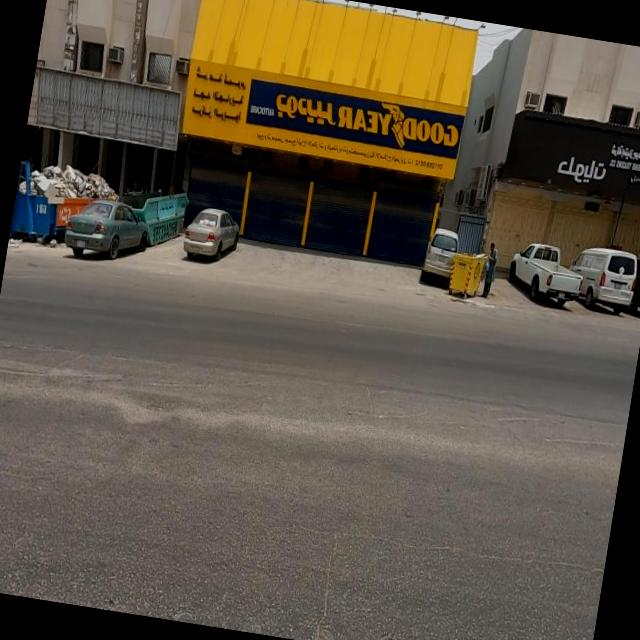debris: (25, 124, 146, 235)
